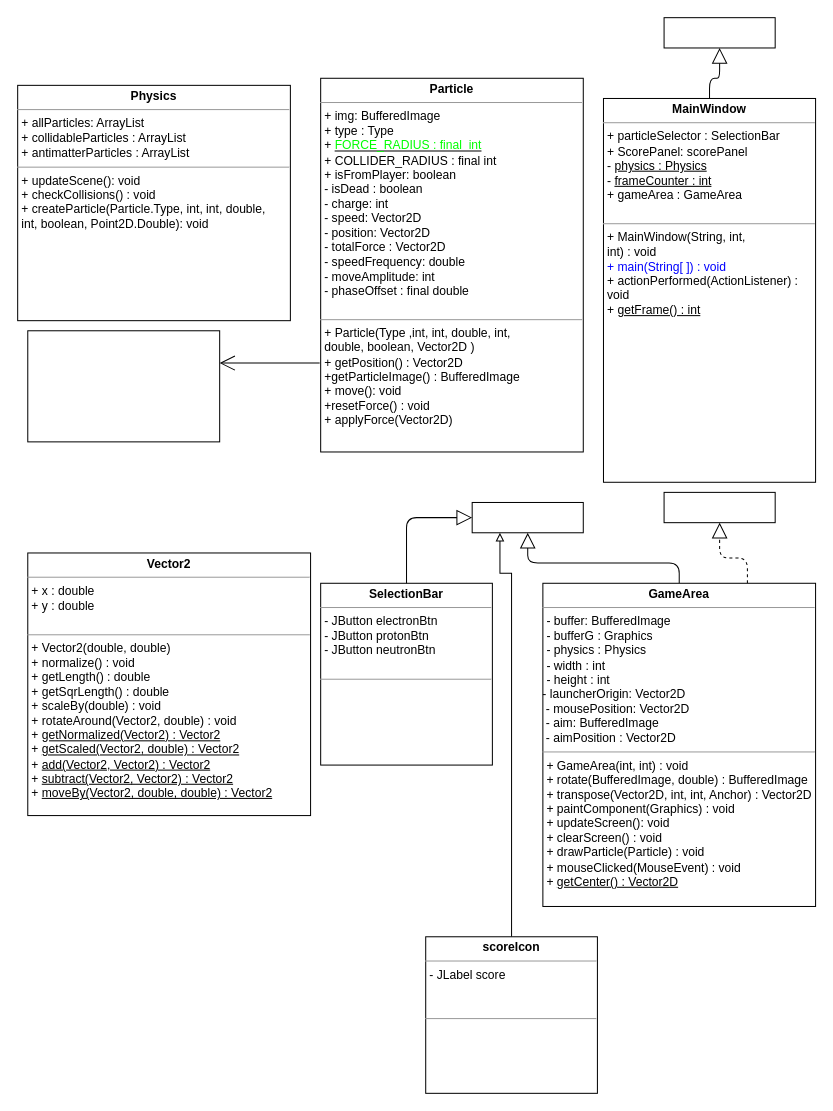
Image size: 833x1111. Some labels were removed from this diagram. Each missing label, with the box of its shape:
<<Enum>> Particle.Type NEUTRON PROTON ELECTRON ANTIMATTER: (27, 330, 220, 442)
JFrame: (663, 17, 775, 48)
JPanel: (471, 501, 583, 533)
MouseListener: (663, 491, 775, 523)
